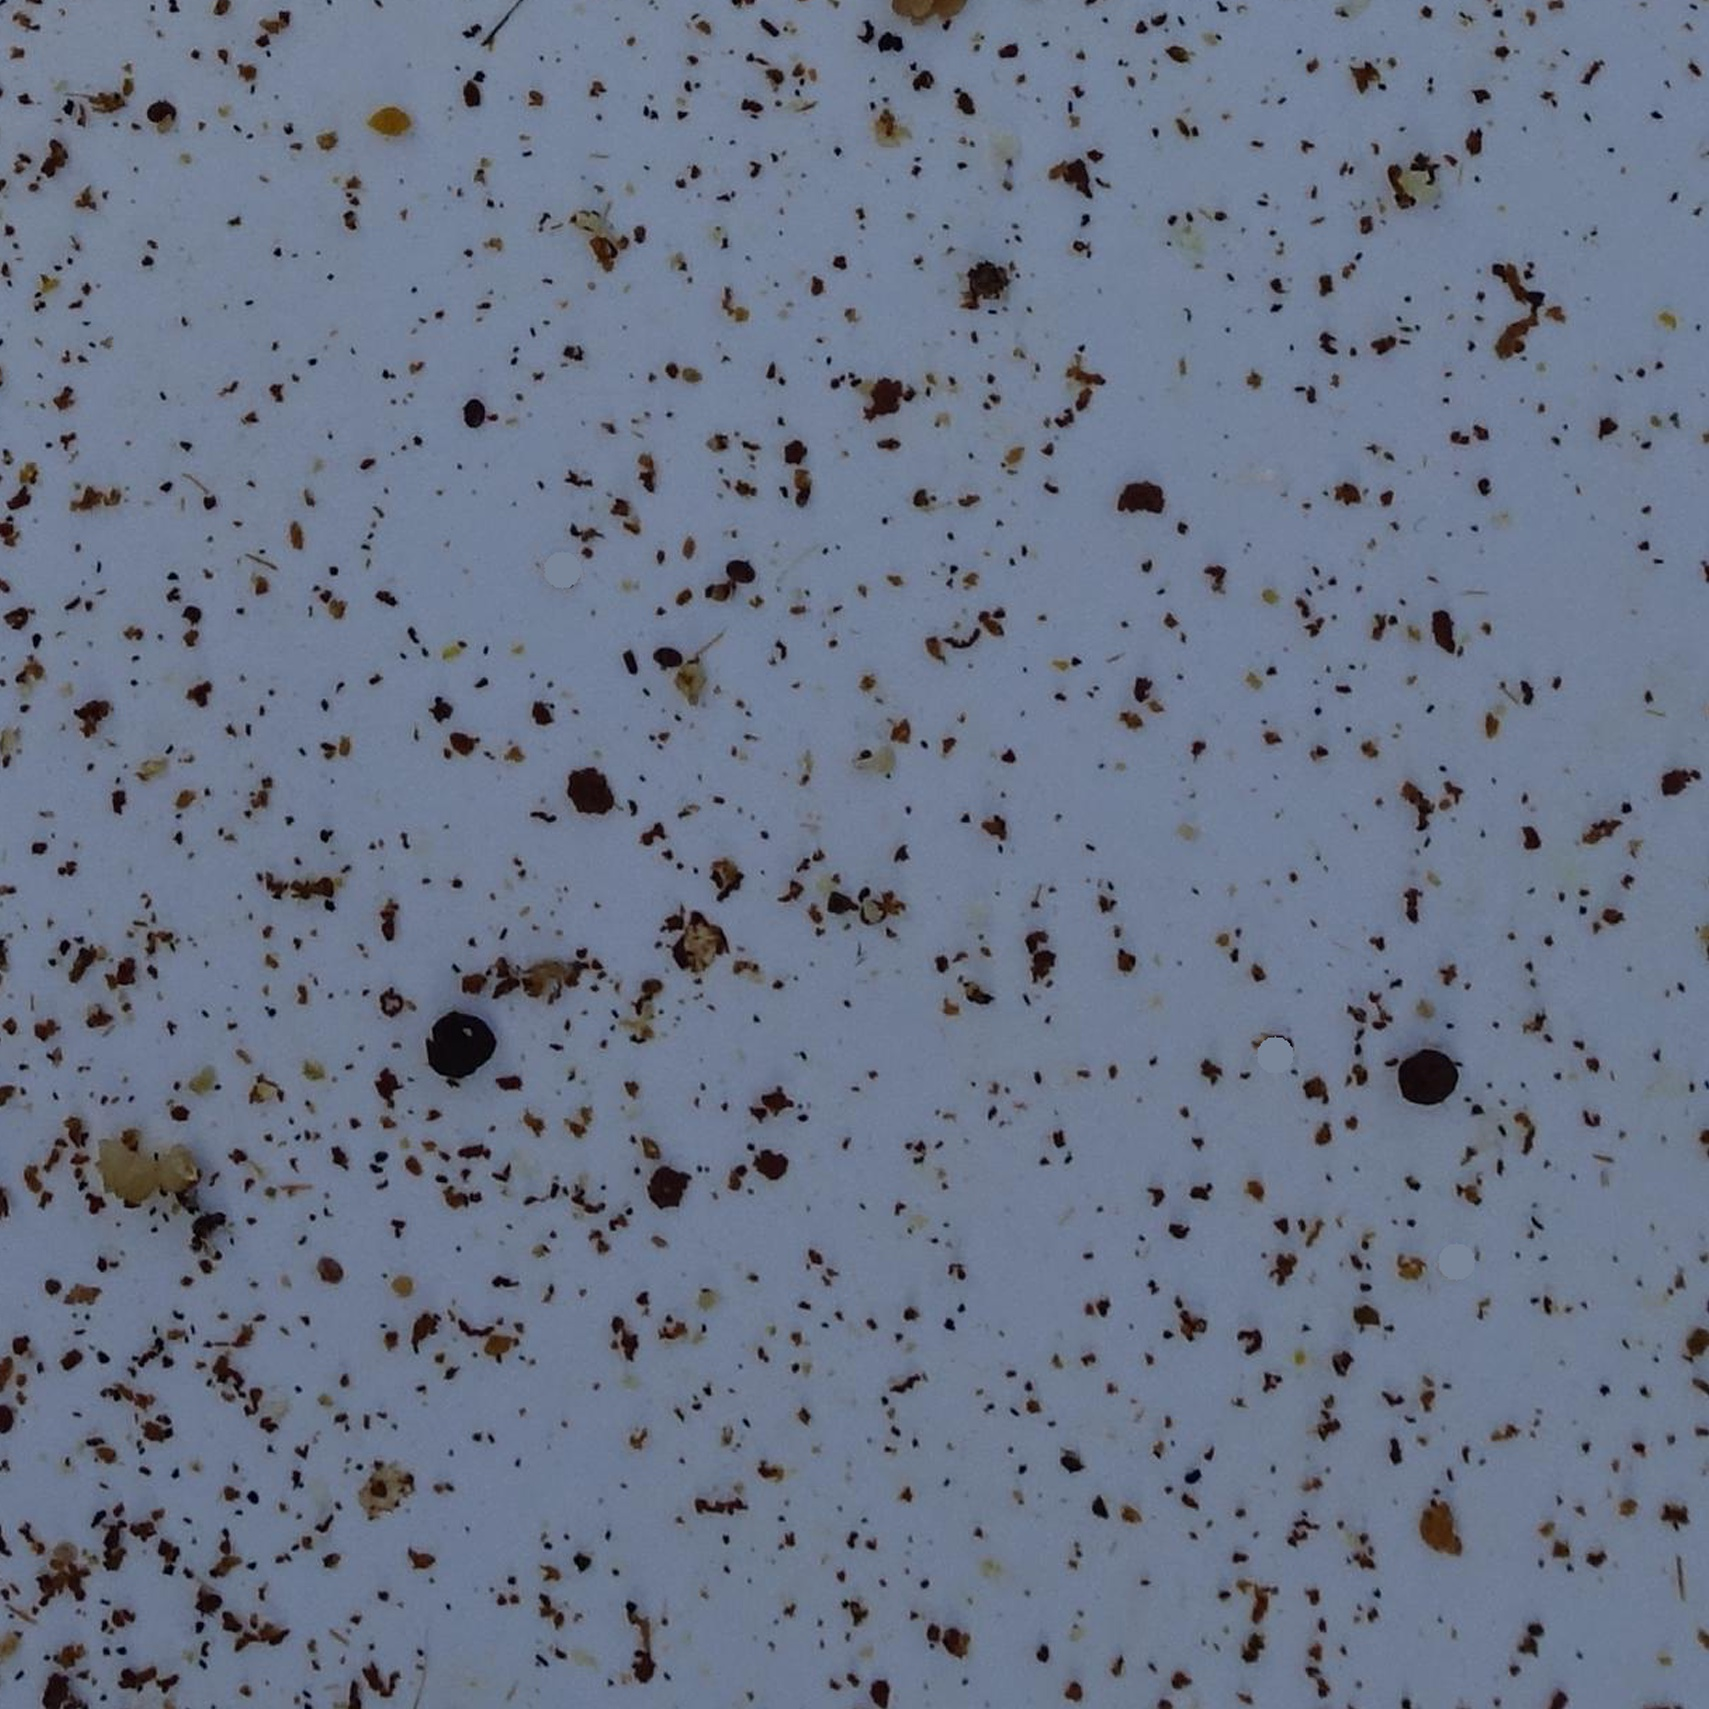Varroa: (186, 1584, 230, 1628), (718, 556, 761, 599), (147, 91, 183, 128), (455, 401, 491, 438), (653, 645, 689, 682), (316, 1254, 354, 1290)
